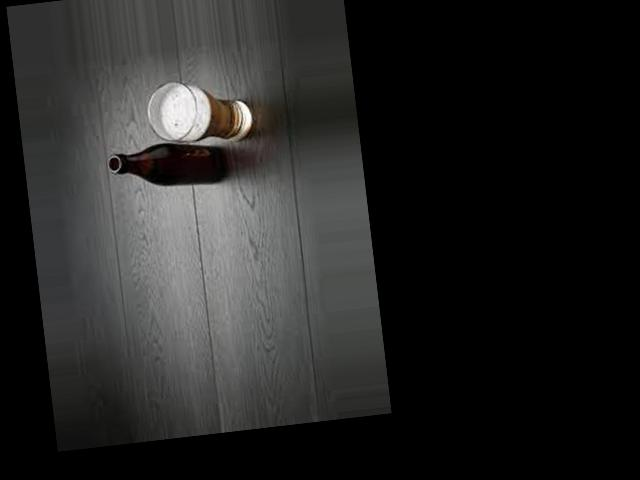beer: (104, 135, 232, 196)
